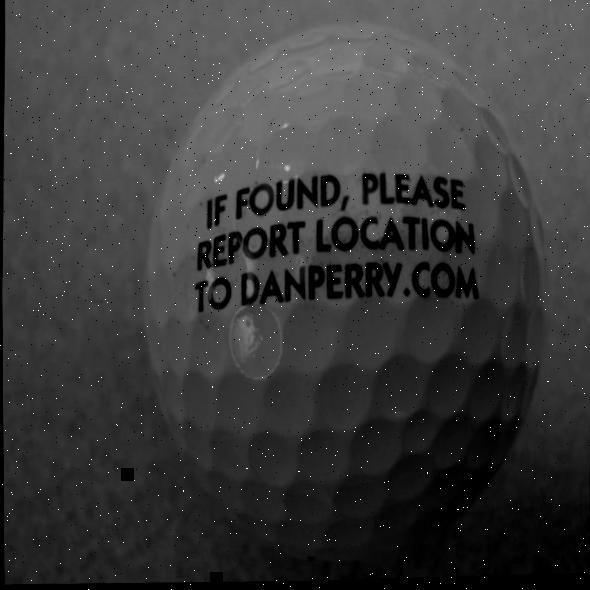GolfBall: (132, 2, 566, 587)
